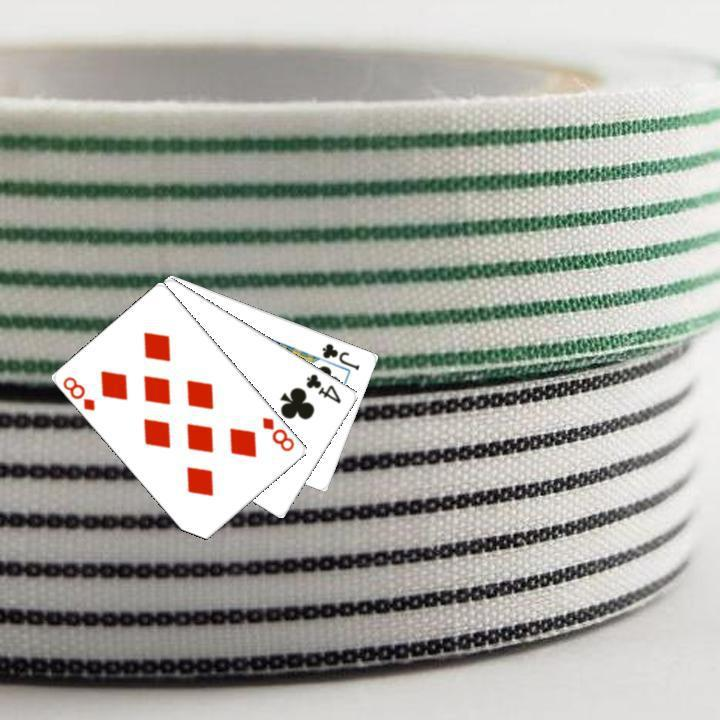4: (302, 369, 343, 405)
8: (258, 413, 297, 454), (59, 372, 98, 413)
J: (318, 339, 362, 372)
